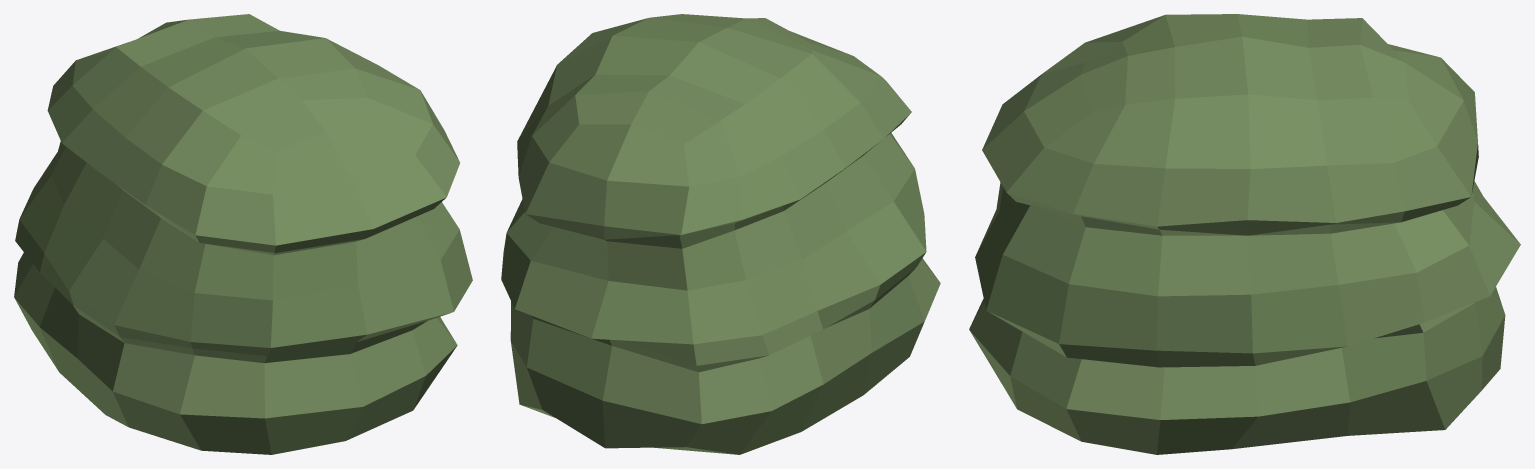
Rendered from bush_1.glb.
The picture shows the model from 3 angles, left to right: view 1: azimuth 30°, elevation 25°; view 2: azimuth 150°, elevation 25°; view 3: azimuth 270°, elevation 25°; orthographic projection. The views are drawn at different scales.
Visible parts, largest first — view 1: bush_1; view 2: bush_1; view 3: bush_1.
Part boxes in pixels (x1,y1,x2,y2): bush_1: [14, 14, 472, 454]; bush_1: [501, 14, 940, 454]; bush_1: [969, 14, 1520, 454].
Size of the model in its own units: 1.33 by 1.24 by 1.69.
